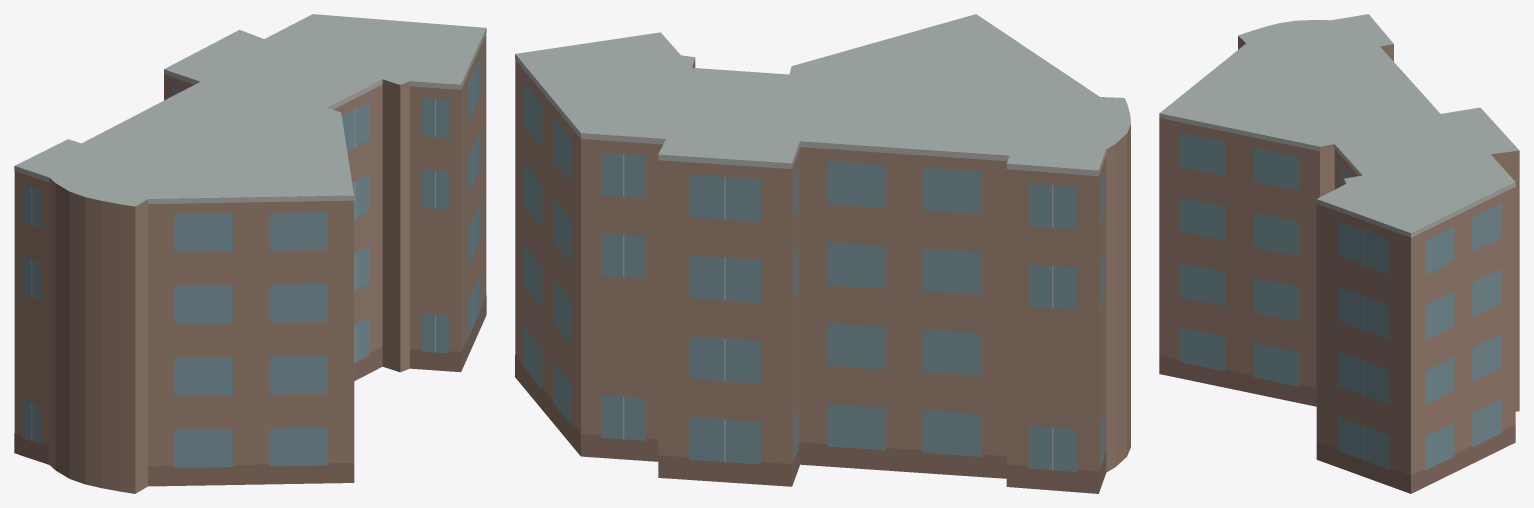
File: survey-upis-32836804.glb
3 renders of one model, left to right at view 1: azimuth 30°, elevation 25°; view 2: azimuth 150°, elevation 25°; view 3: azimuth 270°, elevation 25°, orthographic. The views are drawn at different scales.
Parts seen in each view (by area): view 1: survey-upis-32836804.tmp; view 2: survey-upis-32836804.tmp; view 3: survey-upis-32836804.tmp.
Boxes of the visible parts, box(x1,y1,x2,y2) form: survey-upis-32836804.tmp: box(14, 14, 486, 493); survey-upis-32836804.tmp: box(515, 14, 1130, 493); survey-upis-32836804.tmp: box(1159, 14, 1519, 493).
Bounding box in the file's own units: 24.72 × 13.7 × 17.17.
